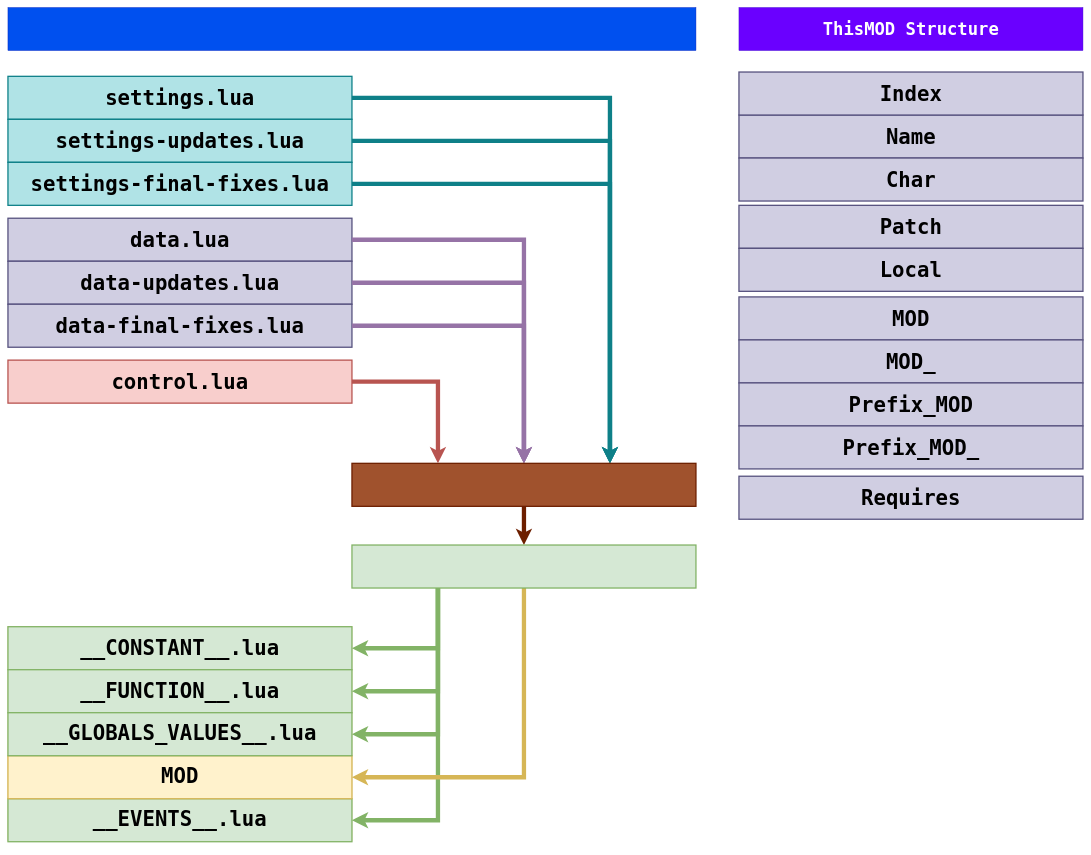
The diagram is 1091 pixels wide and 855 high, and some of its shapes have lost their labels. Here are the shapes that lost their labels. From the top down, the centre of each, then its label:
At [352,29]: "FLOW DATA IN THE MOD".
At [523,484]: "./mods/__LIBRARIES__".
At [523,566]: "__CONTROL__.lua".
